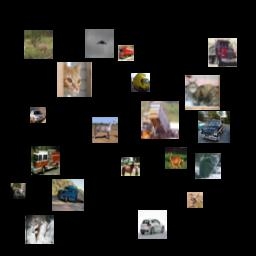airplane: (85, 29, 114, 58)
automobile: (198, 111, 230, 143), (138, 210, 167, 239), (30, 107, 46, 123)
bird: (187, 192, 203, 208), (10, 183, 26, 199)
cat: (57, 62, 92, 97), (185, 75, 220, 110), (195, 153, 221, 179)
deer: (24, 30, 53, 59), (25, 215, 54, 244), (165, 147, 187, 169)
truck: (141, 101, 179, 139), (52, 179, 84, 211), (31, 146, 60, 175), (208, 38, 237, 67), (131, 73, 150, 92), (118, 45, 134, 61)
